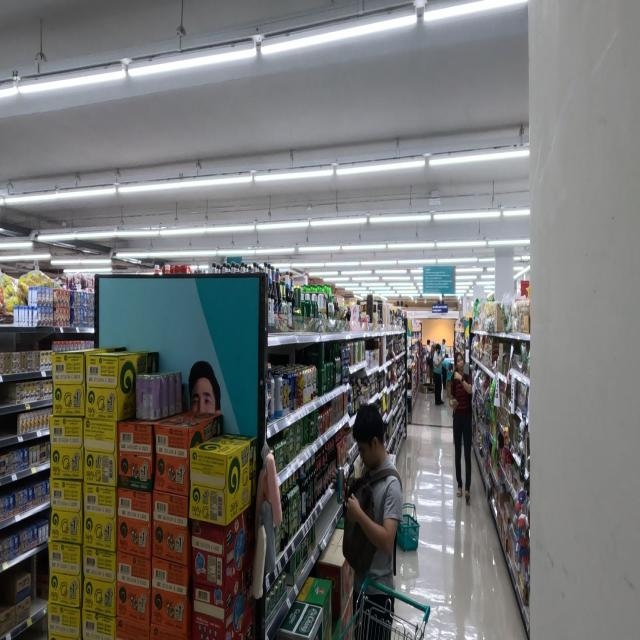shoplifting: (337, 400, 402, 640)
